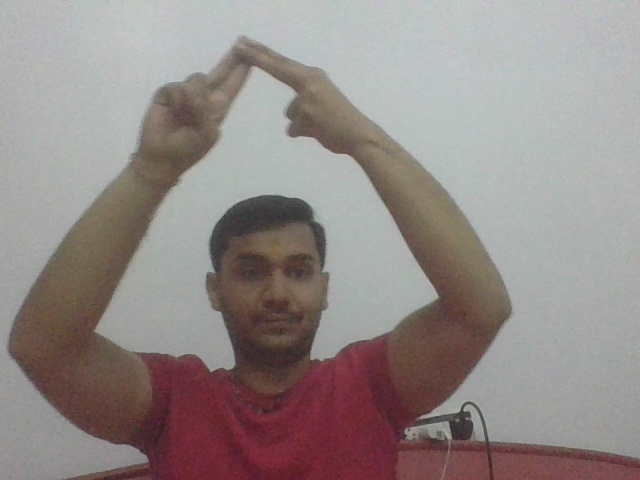F: (142, 30, 362, 158)
